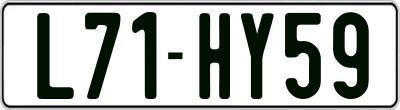1: (130, 10, 160, 100)
5: (282, 11, 320, 97)
7: (82, 13, 118, 105)
9: (331, 9, 367, 101)
H: (196, 11, 227, 99)
L: (36, 11, 74, 102)
Y: (238, 13, 275, 102)
